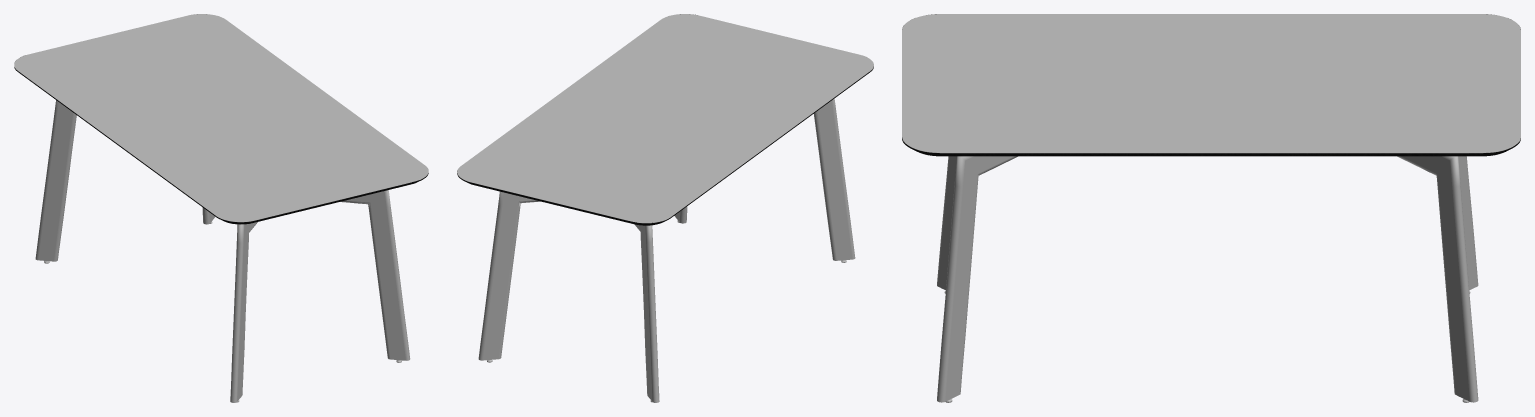
Rendered from alan_fenix_1600.glb.
3 views of the same model, side by side, from view 1: azimuth 30°, elevation 25°; view 2: azimuth 150°, elevation 25°; view 3: azimuth 270°, elevation 25° (orthographic). The views are drawn at different scales.
Visible parts, largest first — view 1: Layer:083, Alan Leg; view 2: Layer:083, Alan Leg; view 3: Layer:083, Alan Leg.
Part boxes in pixels (x1=…): Layer:083: x1=14, y1=14, x2=428, y2=224; Alan Leg: x1=35, y1=100, x2=410, y2=402; Layer:083: x1=457, y1=14, x2=873, y2=225; Alan Leg: x1=478, y1=98, x2=855, y2=402; Layer:083: x1=902, y1=14, x2=1520, y2=156; Alan Leg: x1=937, y1=156, x2=1478, y2=402.
Size of the model in its own units: 0.8496 by 0.7515 by 1.6.
Materials: 2 (2 with a texture image).
